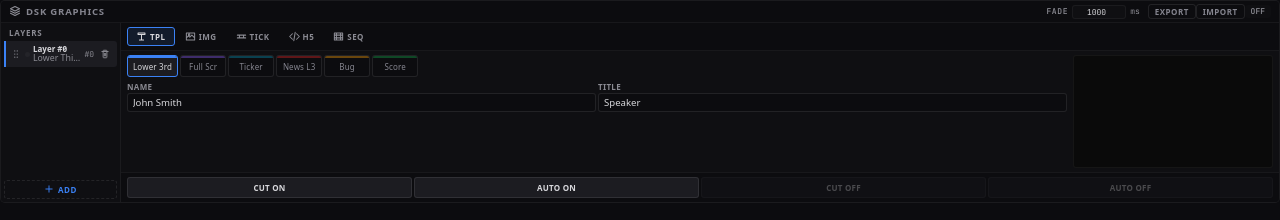
Test: GraphicsPanel › should show ticker controls after clicking TICK mode
Click the button with class "mode-seg" showing "TICK" at (253, 36), box [226,27,279,46]
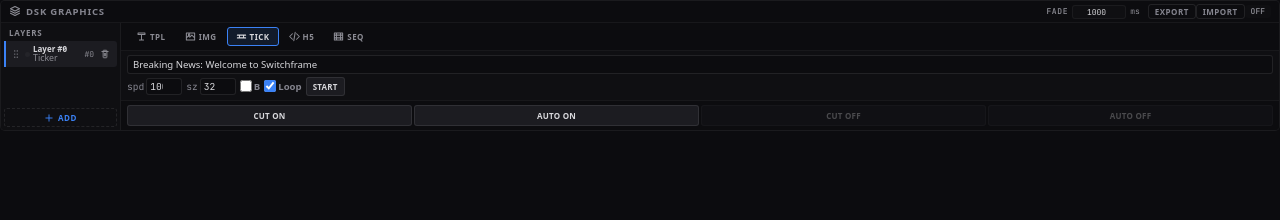
Now the button with class "act-btn" is shown, box [306,77,345,96]
